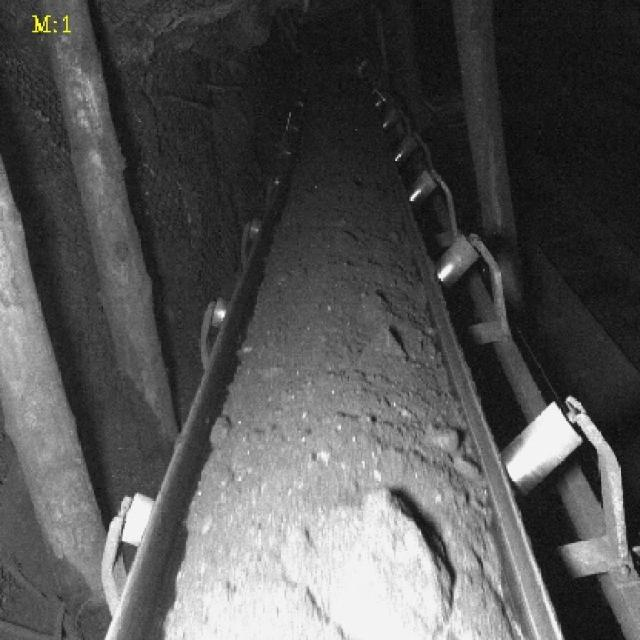large_sized_coal: (289, 487, 452, 640)
